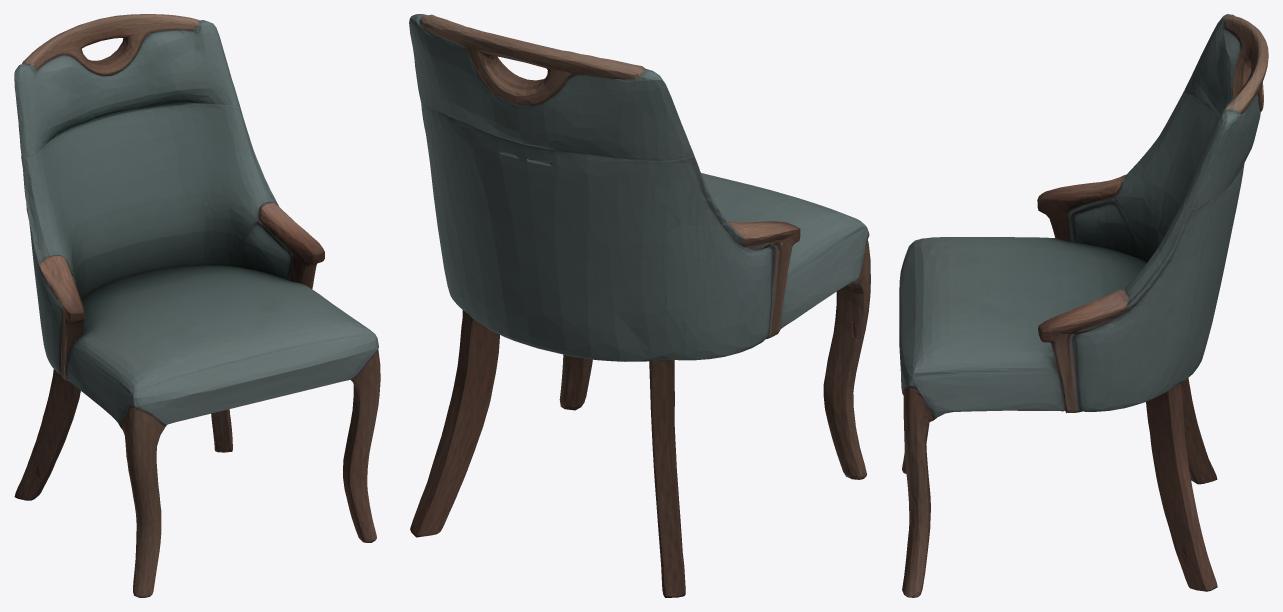
3 views of the same model, side by side, from view 1: azimuth 30°, elevation 25°; view 2: azimuth 150°, elevation 25°; view 3: azimuth 270°, elevation 25° (orthographic). The views are drawn at different scales.
Visible parts, largest first — view 1: world; view 2: world; view 3: world.
Part boxes in pixels (<box>): world: <box>14,14,380,597</box>; world: <box>409,14,870,597</box>; world: <box>899,14,1268,597</box>.
Size of the model in its own units: 0.6172 by 0.9971 by 0.6904.
1 material, 1 textured.
